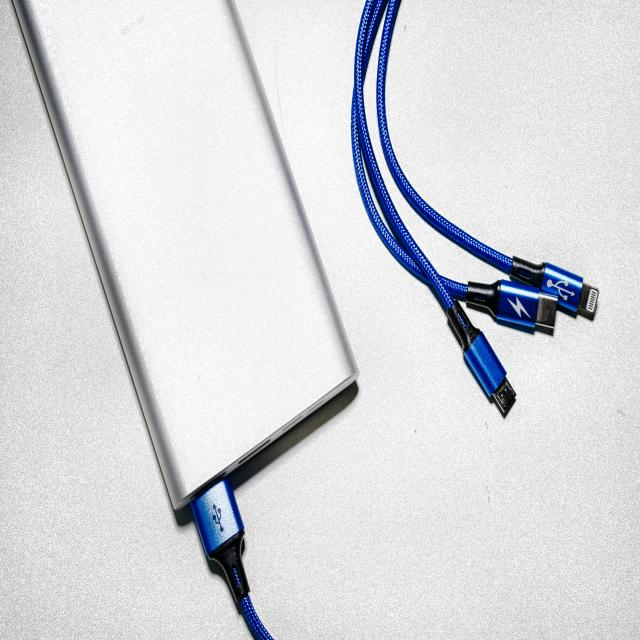Power bank: (15, 0, 357, 508)
